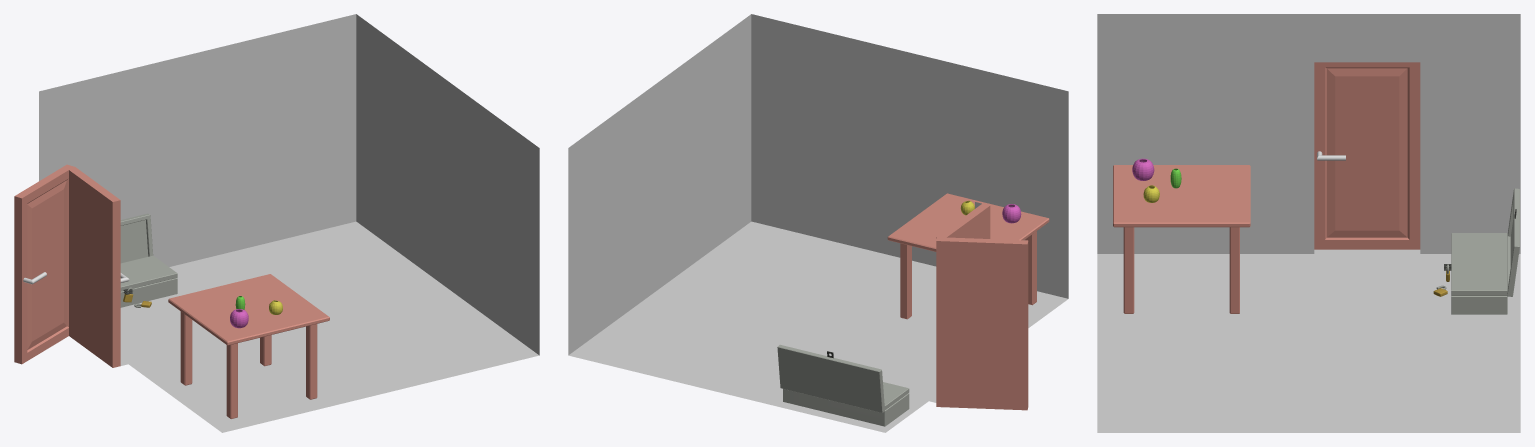
File: room.gltf
3 renders of one model, left to right at view 1: azimuth 30°, elevation 25°; view 2: azimuth 150°, elevation 25°; view 3: azimuth 270°, elevation 25°, orthographic. The views are drawn at different scales.
Parts seen in each view (by area): view 1: walls, door_open, door_closed, table, box_top_open, box_top_closed, box_bottom; view 2: walls, door_open, table, box_top_open, box_bottom, door_closed; view 3: walls, door_closed, table, box_top_closed, box_bottom, box_top_open, vase1.
Part boxes in pixels (x1,y1,x2,y2): walls: [39, 14, 539, 432]; door_open: [14, 164, 73, 364]; door_closed: [69, 166, 129, 367]; table: [168, 274, 329, 418]; box_top_open: [120, 213, 153, 263]; box_top_closed: [120, 255, 177, 292]; box_bottom: [120, 278, 177, 307]; walls: [568, 14, 1068, 432]; door_open: [936, 237, 1028, 410]; table: [887, 193, 1049, 319]; box_top_open: [777, 344, 884, 412]; box_bottom: [783, 389, 909, 426]; door_closed: [936, 203, 990, 238]; walls: [1097, 14, 1520, 432]; door_closed: [1314, 62, 1420, 249]; table: [1113, 165, 1250, 313]; box_top_closed: [1444, 233, 1507, 295]; box_bottom: [1444, 268, 1507, 314]; box_top_open: [1507, 188, 1519, 296]; vase1: [1132, 158, 1154, 180].
Size of the model in its own units: 10.1 by 5 by 8.
